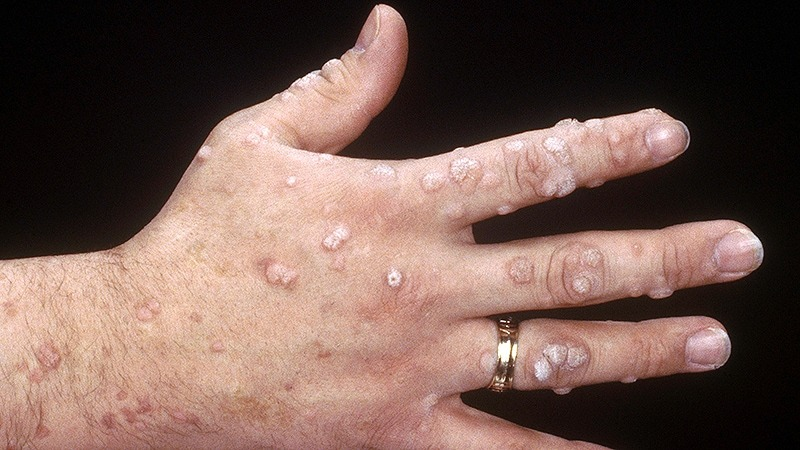Warts: (0, 45, 716, 450)
